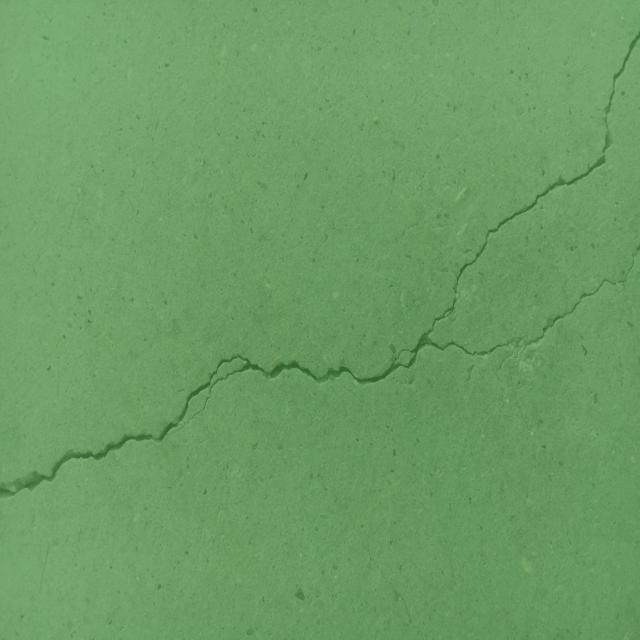crack: (0, 28, 640, 500)
